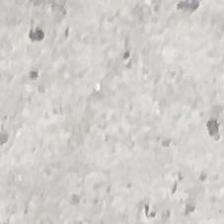Non_Crack: (28, 22, 213, 209)
